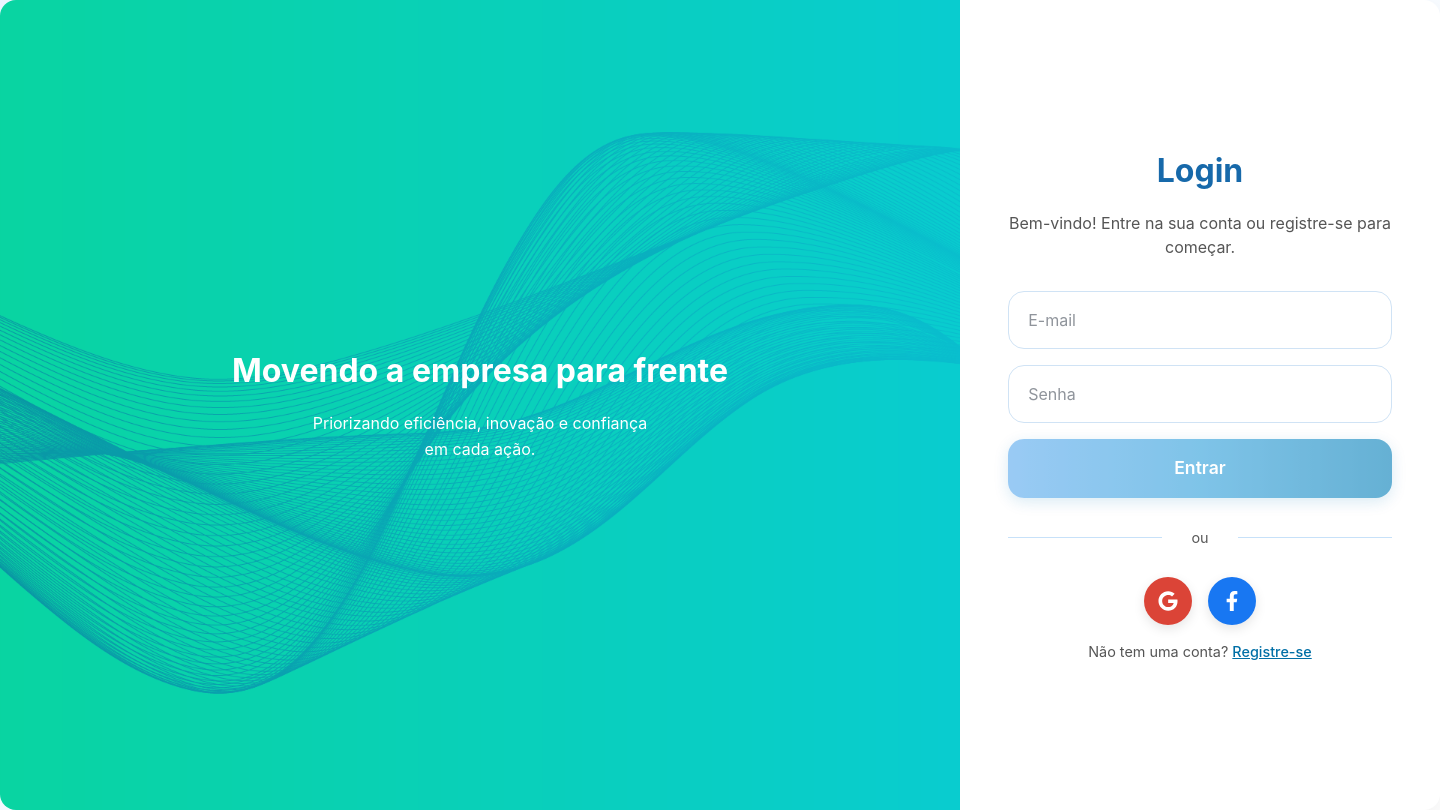
Test case: LoginPage › keeps the primary submit action disabled until credentials are present
The width and height of the screenshot is (1440, 810).
Expected: the button "Entrar" is disabled, [1008,439,1392,498]
Type "teste@example.com" into the field labelled "E-mail" at (1200, 320), box [1008,291,1392,349]
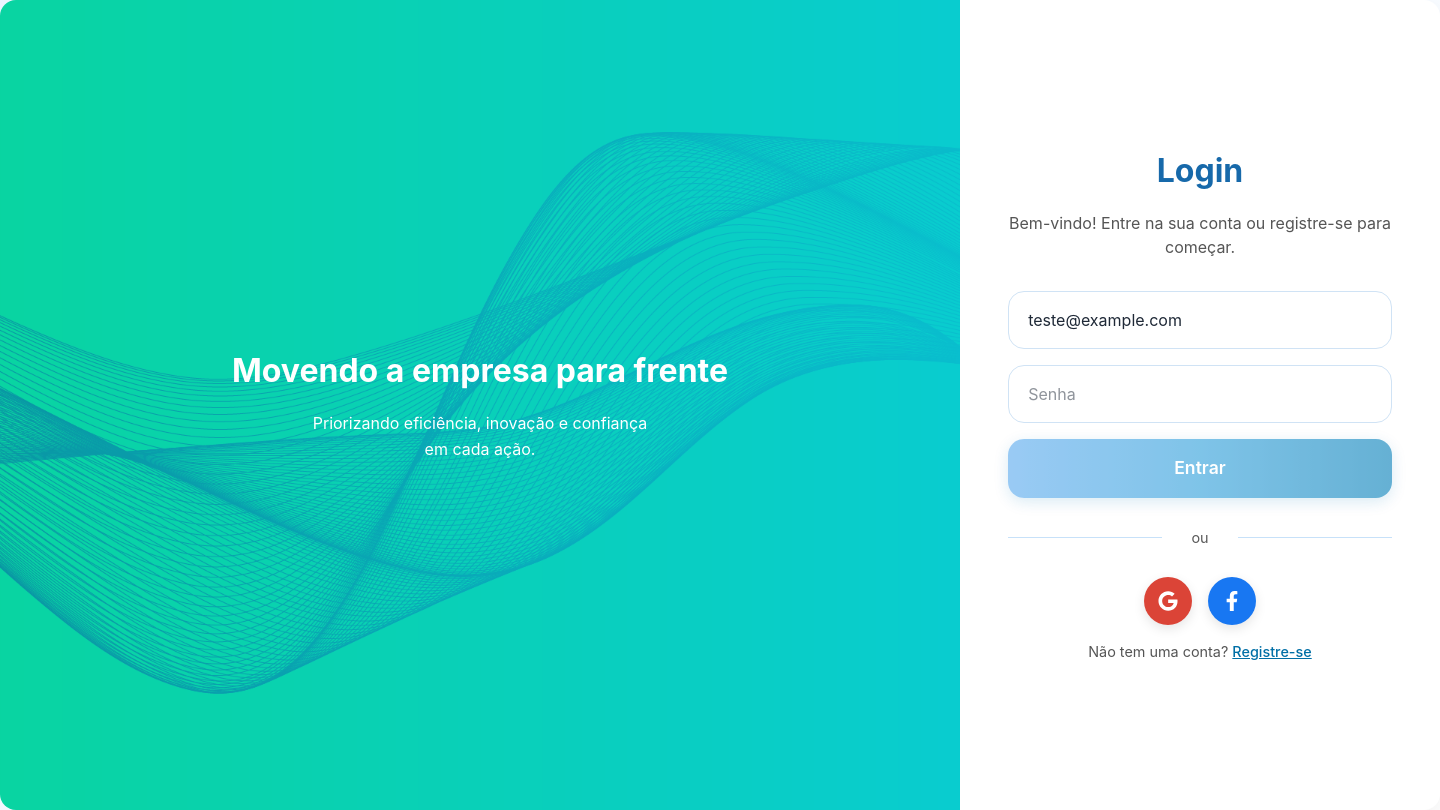
Expected: the button "Entrar" is disabled, [1008,439,1392,498]
Type "SenhaTeste123!" into the password field labelled "Senha" at (1200, 394), box [1008,365,1392,423]
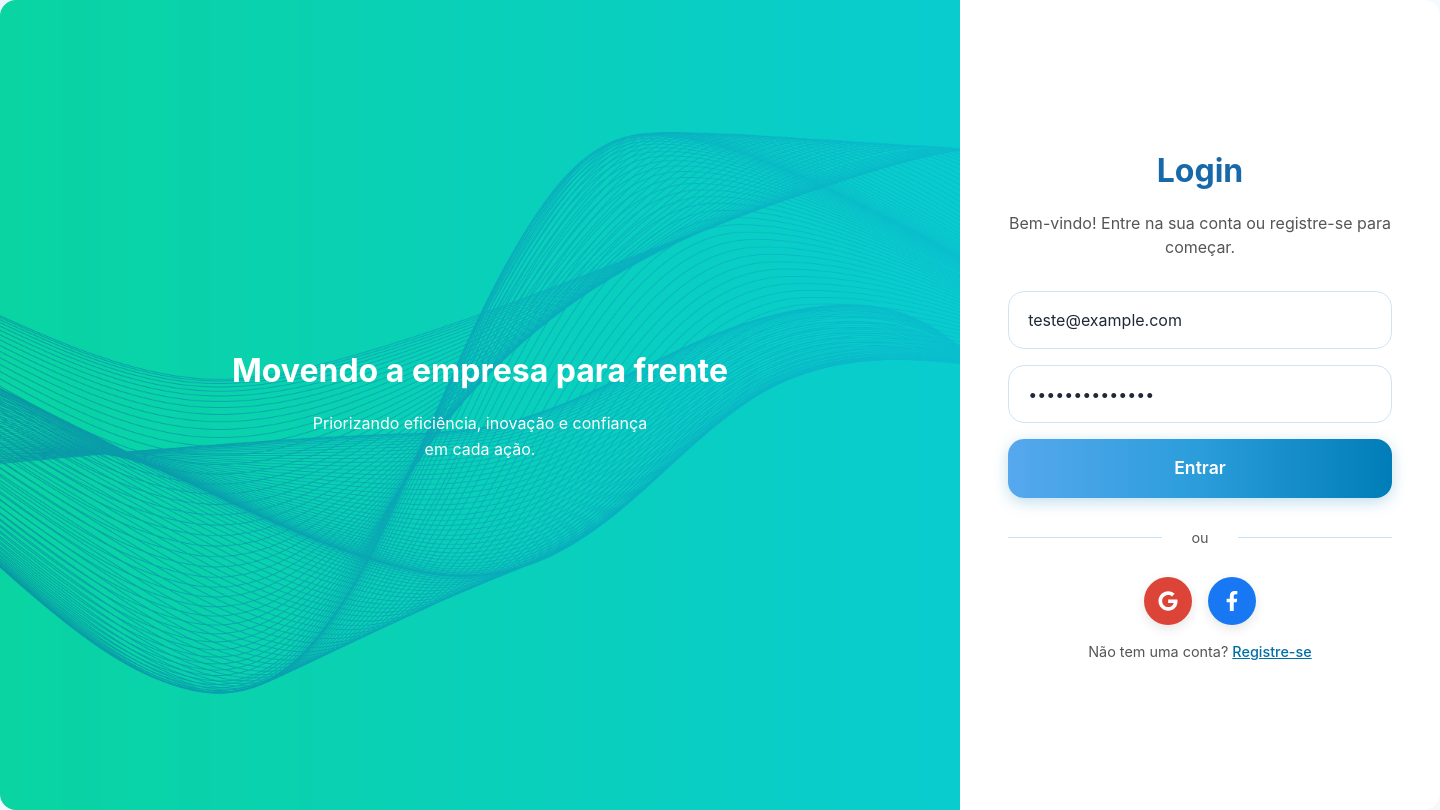
Now the button "Entrar" is enabled, box [1008,439,1392,498]
